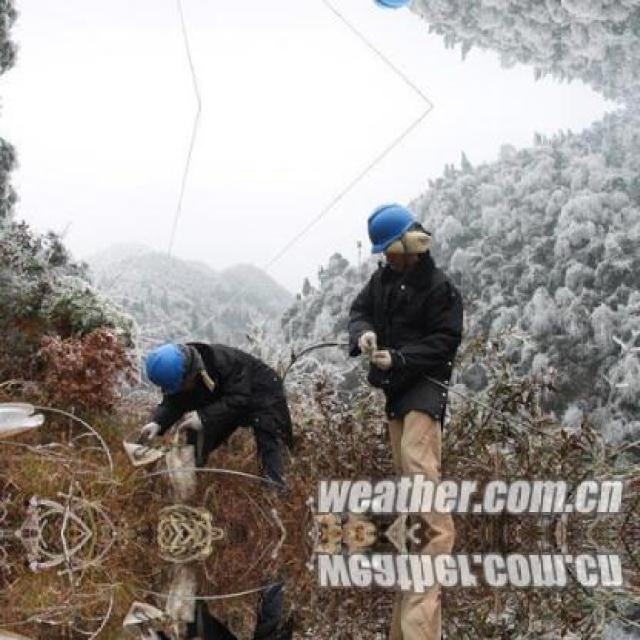helmet: (360, 203, 417, 250), (146, 342, 184, 398)
